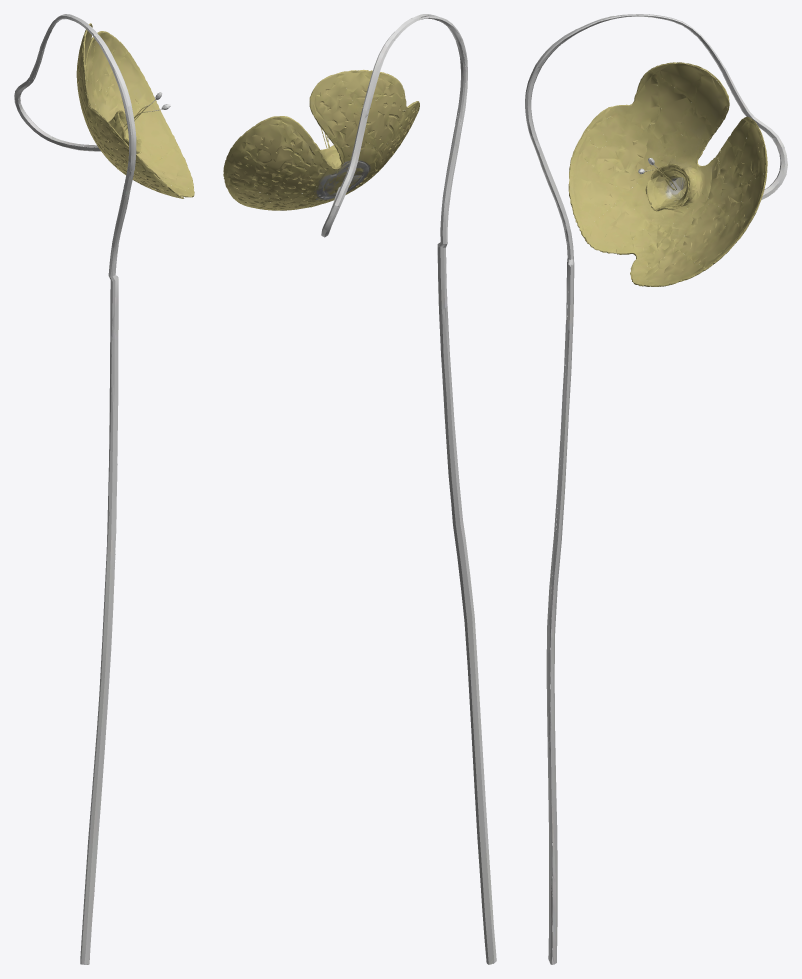
File: 11_1_hamu_cntk_olive.glb
The picture shows the model from 3 angles, left to right: view 1: azimuth 30°, elevation 25°; view 2: azimuth 150°, elevation 25°; view 3: azimuth 270°, elevation 25°; orthographic projection. The views are drawn at different scales.
Visible parts, largest first — view 1: tripo_node_8296376d-dea6-44fe-8e0d-ab3b9d3a0fa7; view 2: tripo_node_8296376d-dea6-44fe-8e0d-ab3b9d3a0fa7; view 3: tripo_node_8296376d-dea6-44fe-8e0d-ab3b9d3a0fa7.
Part boxes in pixels (x1,y1,x2,y2): tripo_node_8296376d-dea6-44fe-8e0d-ab3b9d3a0fa7: [14, 14, 194, 964]; tripo_node_8296376d-dea6-44fe-8e0d-ab3b9d3a0fa7: [223, 14, 496, 964]; tripo_node_8296376d-dea6-44fe-8e0d-ab3b9d3a0fa7: [525, 14, 787, 964].
Size of the model in its own units: 0.0878 by 0.4472 by 0.1099.
Materials: 1 (1 with a texture image).
